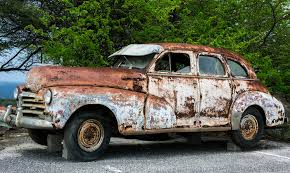rust: (37, 66, 139, 99), (163, 43, 235, 58)
